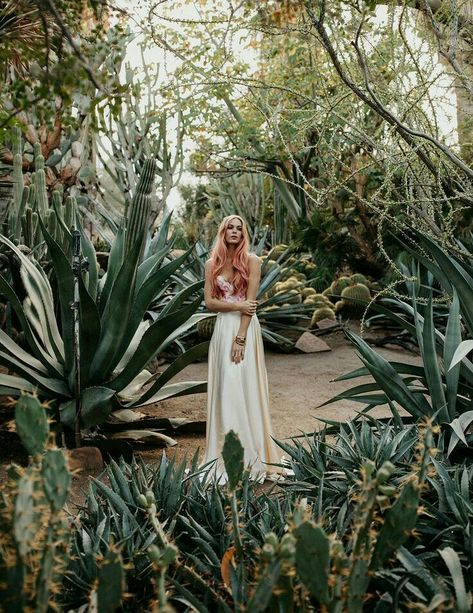person: (189, 203, 284, 481)
